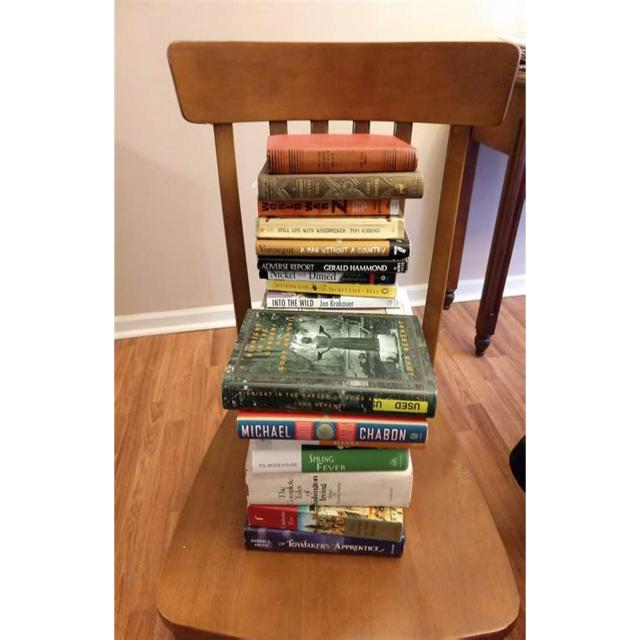paper: (220, 134, 440, 559)
